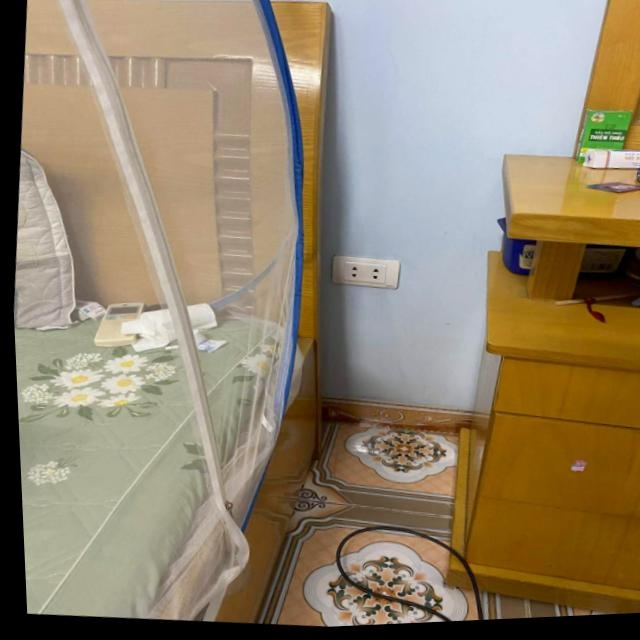outlet: (329, 251, 402, 291)
